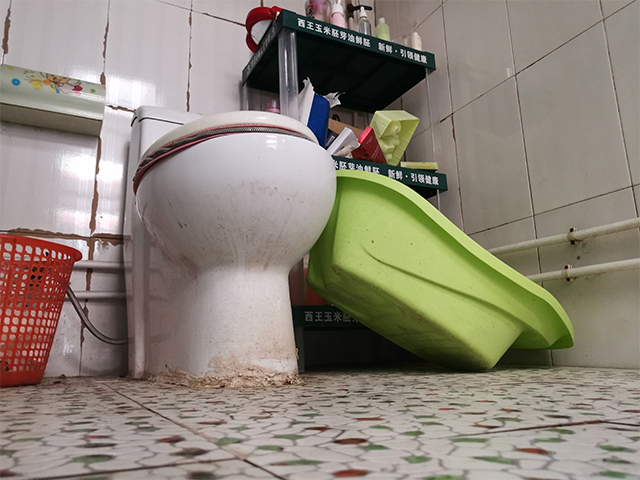closestool: (120, 103, 339, 387)
trashcan: (1, 232, 83, 390)
